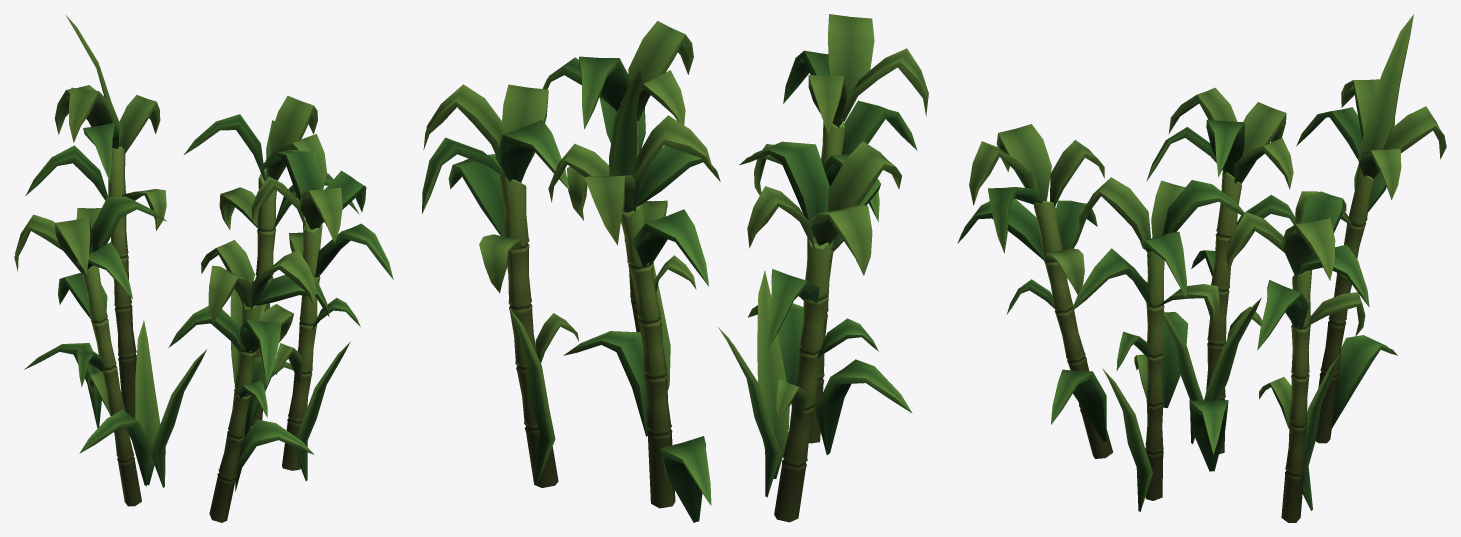
Rendered from SM_Plant_SugarCane_Lv3.fbx.
3 views of the same model, side by side, from view 1: azimuth 30°, elevation 25°; view 2: azimuth 150°, elevation 25°; view 3: azimuth 270°, elevation 25° (orthographic). The views are drawn at different scales.
Parts seen in each view (by area): view 1: SM_Plant_SugarCane_Lv3; view 2: SM_Plant_SugarCane_Lv3; view 3: SM_Plant_SugarCane_Lv3.
Part boxes in pixels (left/top/right/bottom): SM_Plant_SugarCane_Lv3: left=14, top=15, right=393, bottom=522; SM_Plant_SugarCane_Lv3: left=422, top=14, right=928, bottom=522; SM_Plant_SugarCane_Lv3: left=957, top=14, right=1446, bottom=522.
Size of the model in its own units: 76.38 by 89.59 by 88.06.
